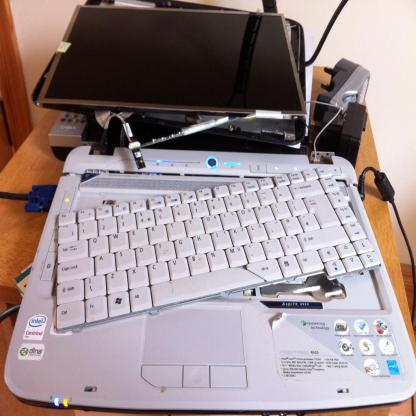board: (4, 0, 415, 414)
